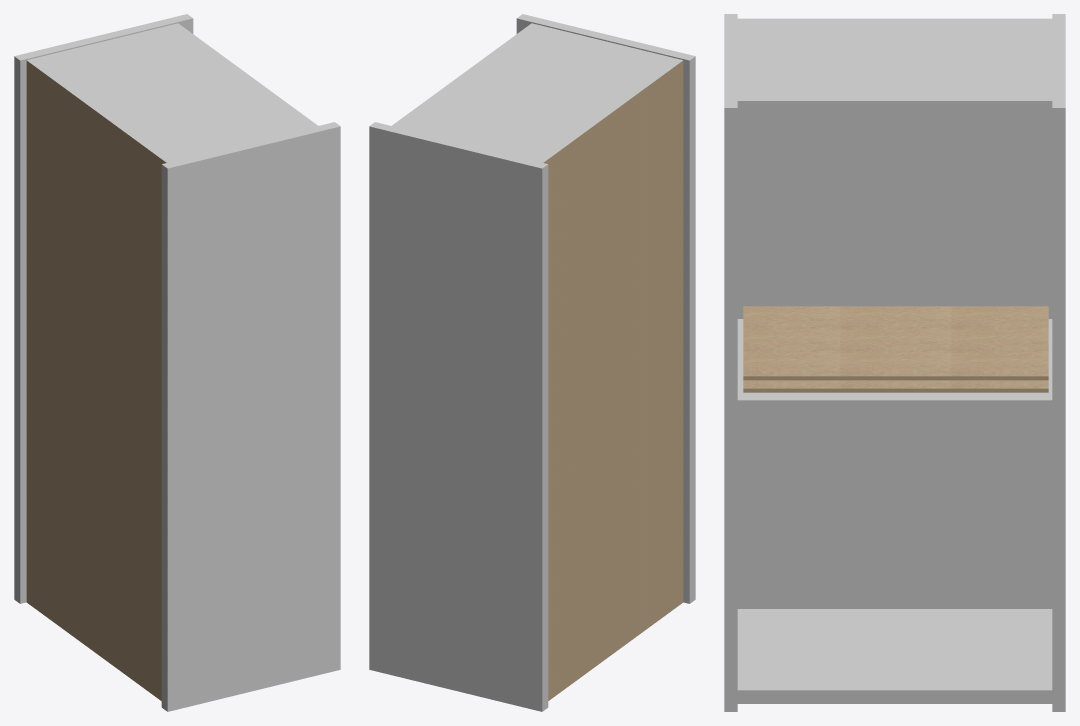
The model's file is intelingent_shelf.dae.
3 views of the same model, side by side, from view 1: azimuth 30°, elevation 25°; view 2: azimuth 150°, elevation 25°; view 3: azimuth 270°, elevation 25° (orthographic). The views are drawn at different scales.
Parts seen in each view (by area): view 1: shelf (×2); view 2: shelf (×2); view 3: shelf, obj1 (×2).
Part boxes in pixels (x1,y1,x2,y2): shelf (×2): (14, 14, 340, 711); shelf (×2): (369, 14, 695, 711); shelf: (724, 14, 1065, 711); obj1 (×2): (743, 306, 1048, 392).
Bounding box in the file's own units: 11.71 × 17.99 × 35.12.
Materials: 3 (1 with a texture image).
